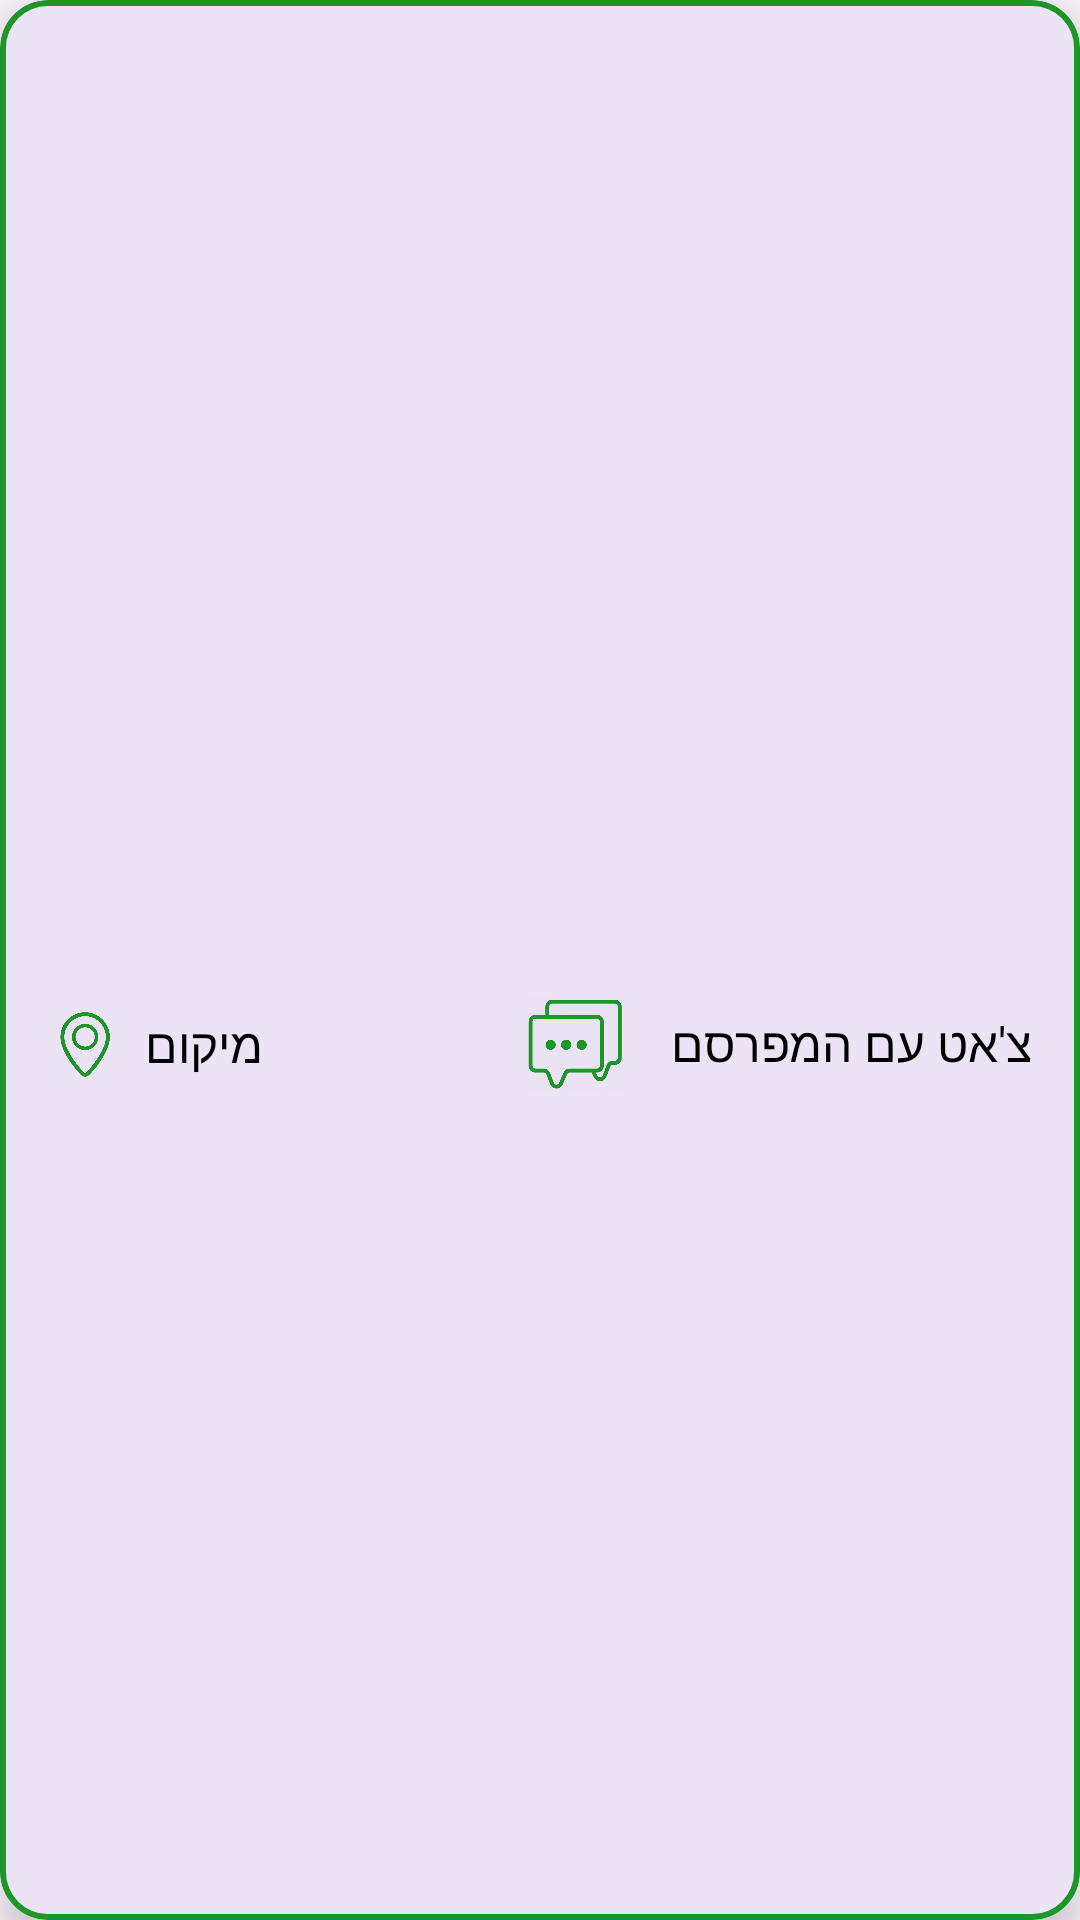

Named icons in this screenshot (1080px x 1920px) and their bounding boxes, [left=x1, top=y1, right=x2, bottom=y2]:
location: [left=60, top=1012, right=110, bottom=1077]
פתח צ'אט עם מפרסם הפוסט: [left=528, top=1000, right=622, bottom=1089]
